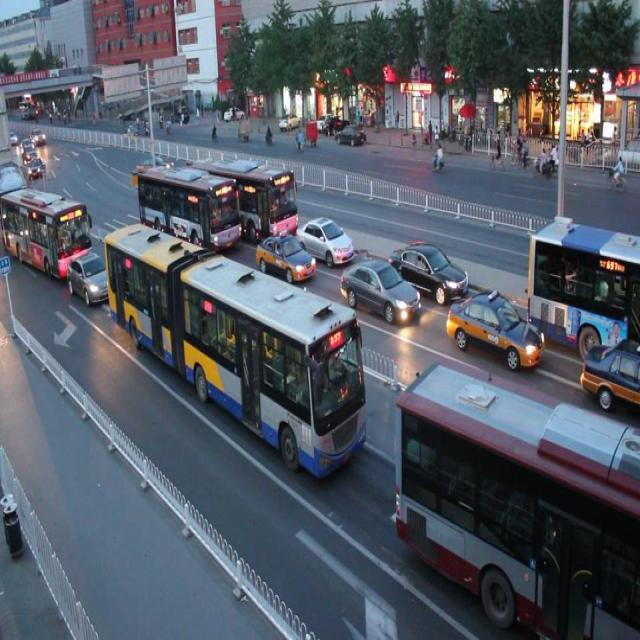car: (446, 294, 544, 382), (337, 258, 416, 331), (390, 243, 468, 309), (580, 339, 640, 404), (253, 230, 314, 289), (294, 214, 352, 273), (67, 251, 113, 304)
van: (102, 218, 366, 482), (398, 358, 640, 640), (525, 217, 640, 355), (136, 160, 240, 262), (191, 153, 298, 248), (1, 182, 90, 272)
